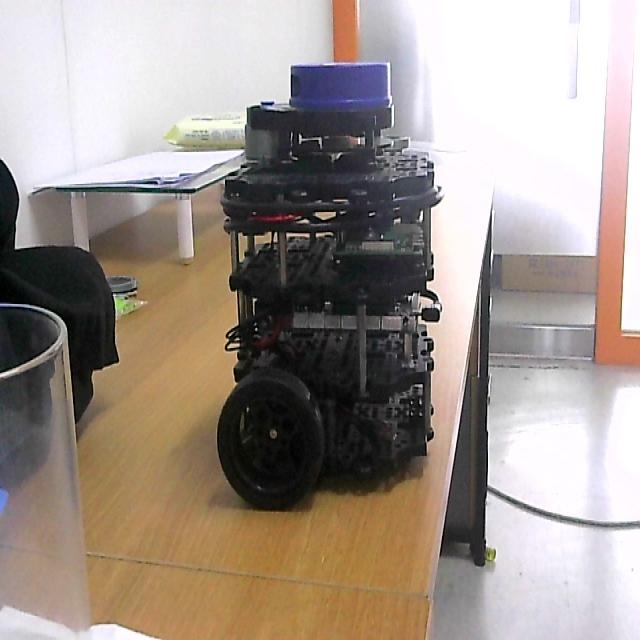turtle: (216, 60, 444, 508)
